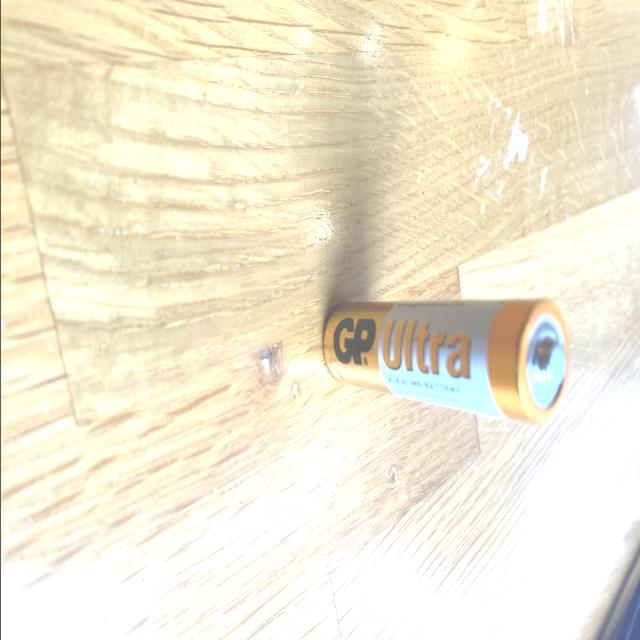AA: (322, 296, 570, 424)
